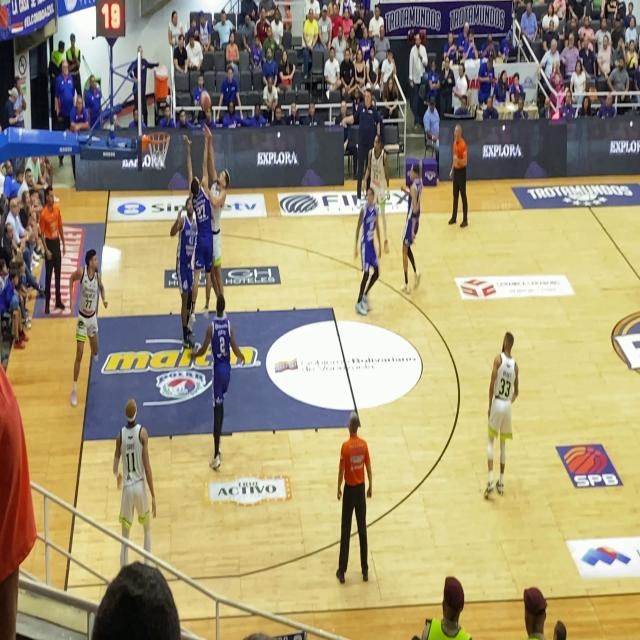Ball: (196, 86, 213, 113)
referee: (330, 390, 374, 596), (33, 168, 68, 328), (442, 122, 476, 238)
team1: (107, 384, 161, 561), (61, 230, 111, 421), (476, 316, 516, 510), (202, 136, 233, 302), (367, 129, 397, 256)
team2: (190, 282, 246, 484), (186, 144, 219, 315), (394, 158, 431, 298), (352, 172, 383, 326), (170, 193, 195, 355)
ubasket: (145, 130, 170, 172)
